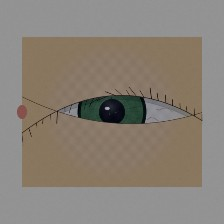pterygium_lesion: (21, 88, 80, 136)
